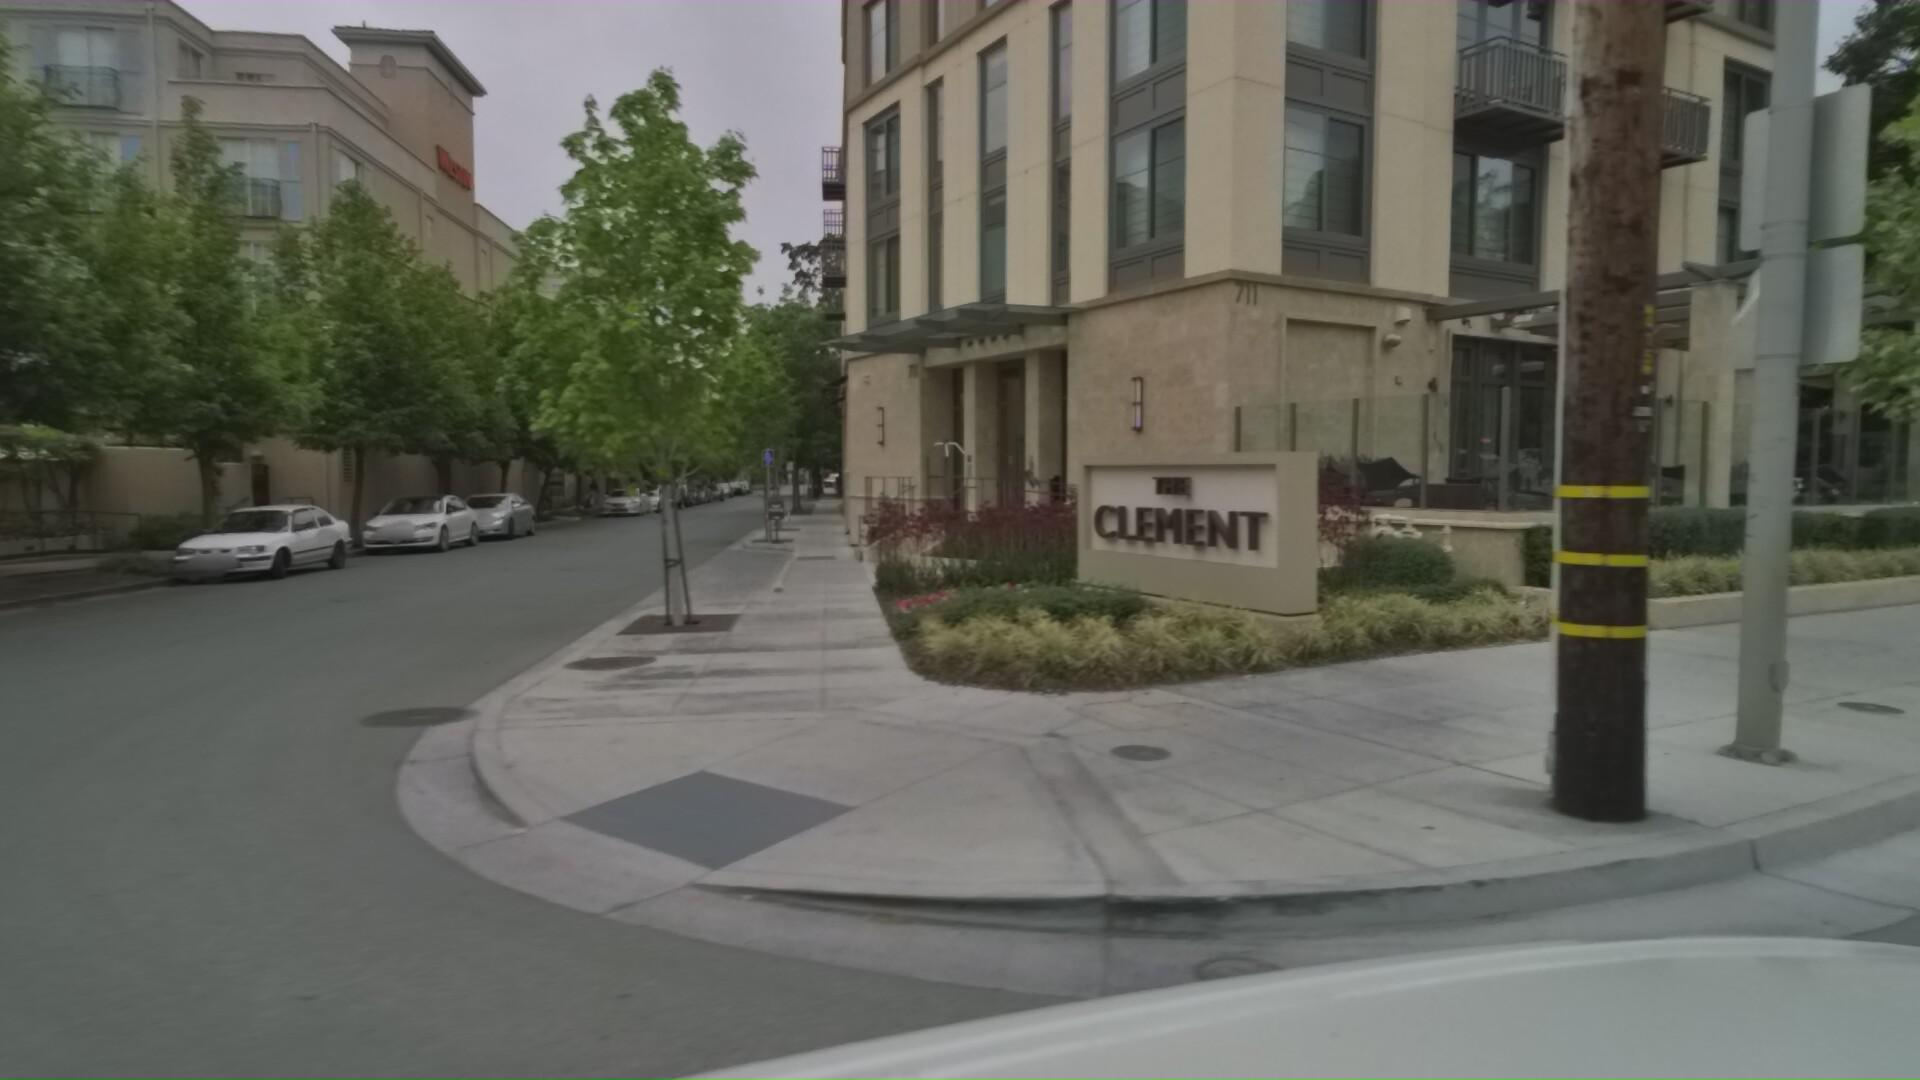car: (189, 498, 392, 588), (368, 487, 512, 560), (454, 487, 562, 541), (605, 480, 662, 514), (636, 483, 679, 510)
